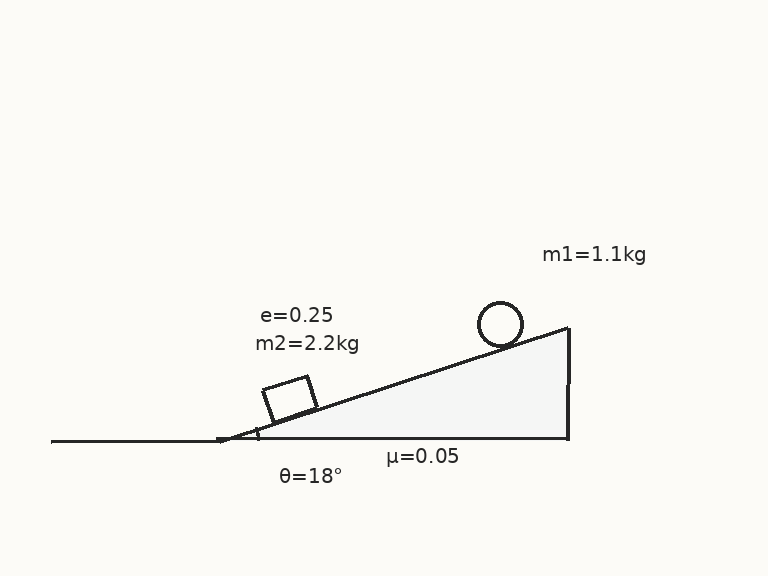ball: (475, 299, 525, 349)
block: (261, 373, 319, 424)
ramp: (216, 324, 570, 442)
